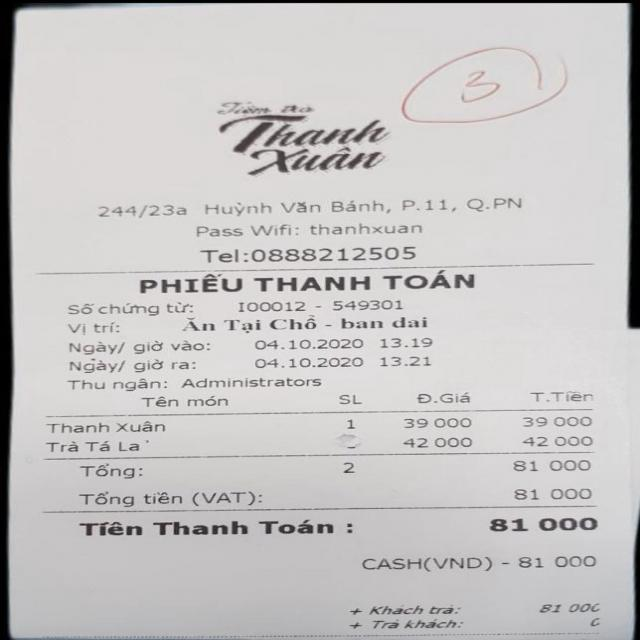Date: (253, 352, 369, 369)
Store_Name: (202, 90, 396, 177)
amount_number: (486, 513, 602, 536)
label_total: (79, 516, 341, 542)
